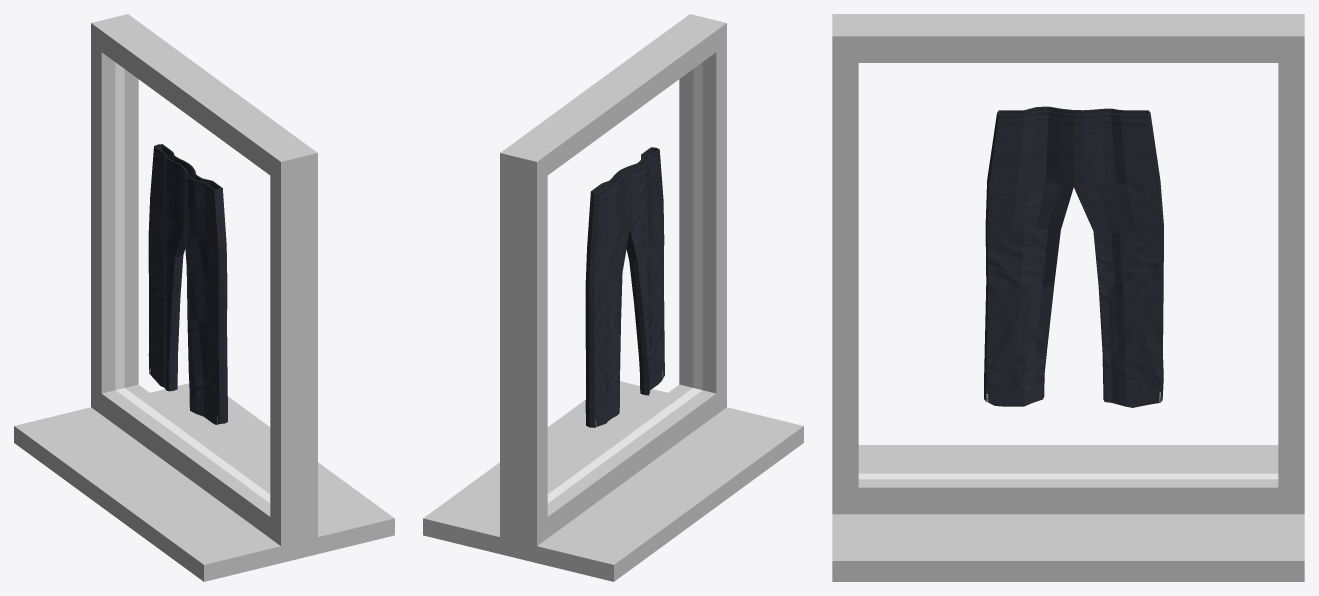
The model's file is chino_navy.glb.
3 renders of one model, left to right at view 1: azimuth 30°, elevation 25°; view 2: azimuth 150°, elevation 25°; view 3: azimuth 270°, elevation 25°, orthographic. The views are drawn at different scales.
Visible parts, largest first — view 1: Cube.017, Plane.012; view 2: Cube.017, Plane.012; view 3: Cube.017, Plane.012.
Boxes of the visible parts, left/top/right/bottom form: Cube.017: left=14, top=14, right=394, bottom=581; Plane.012: left=148, top=144, right=227, bottom=424; Cube.017: left=423, top=14, right=803, bottom=581; Plane.012: left=585, top=147, right=664, bottom=427; Cube.017: left=832, top=14, right=1304, bottom=581; Plane.012: left=984, top=106, right=1163, bottom=407.
Size of the model in its own units: 0.362 by 0.7276 by 0.6242.
Materials: 3 (1 with a texture image).
